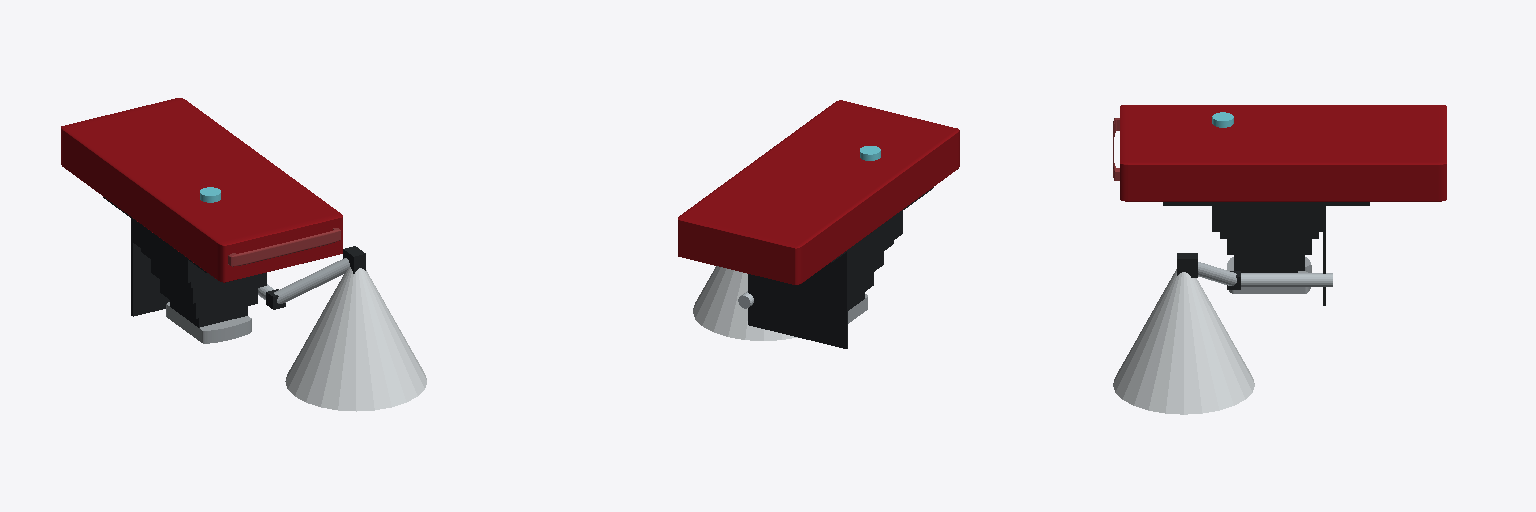
The model's file is tinker.obj.
3 views of the same model, side by side, from view 1: azimuth 30°, elevation 25°; view 2: azimuth 150°, elevation 25°; view 3: azimuth 270°, elevation 25° (orthographic).
Visible parts, largest first — view 1: obj_0; view 2: obj_0; view 3: obj_0.
Boxes of the visible parts, box(x1,y1,x2,y2) form: obj_0: box(61, 98, 426, 411); obj_0: box(678, 100, 959, 348); obj_0: box(1113, 105, 1446, 414).
Size of the model in its own units: 37 by 32 by 47.